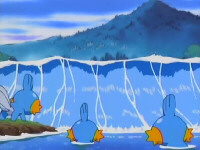mudkip: (145, 91, 195, 149), (1, 68, 42, 122), (67, 101, 106, 143)
